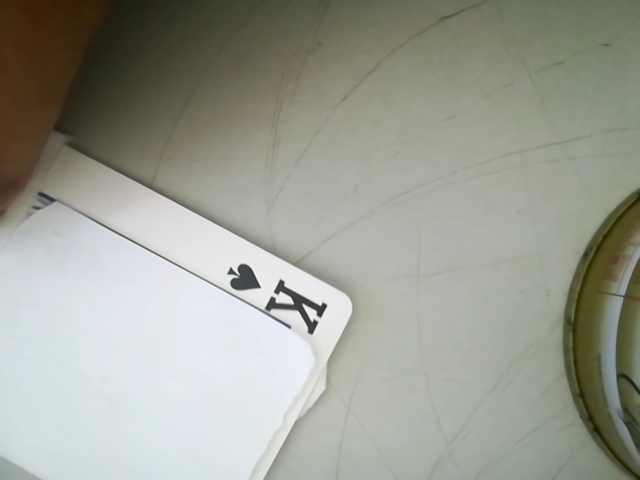ht k: (217, 253, 344, 331)
